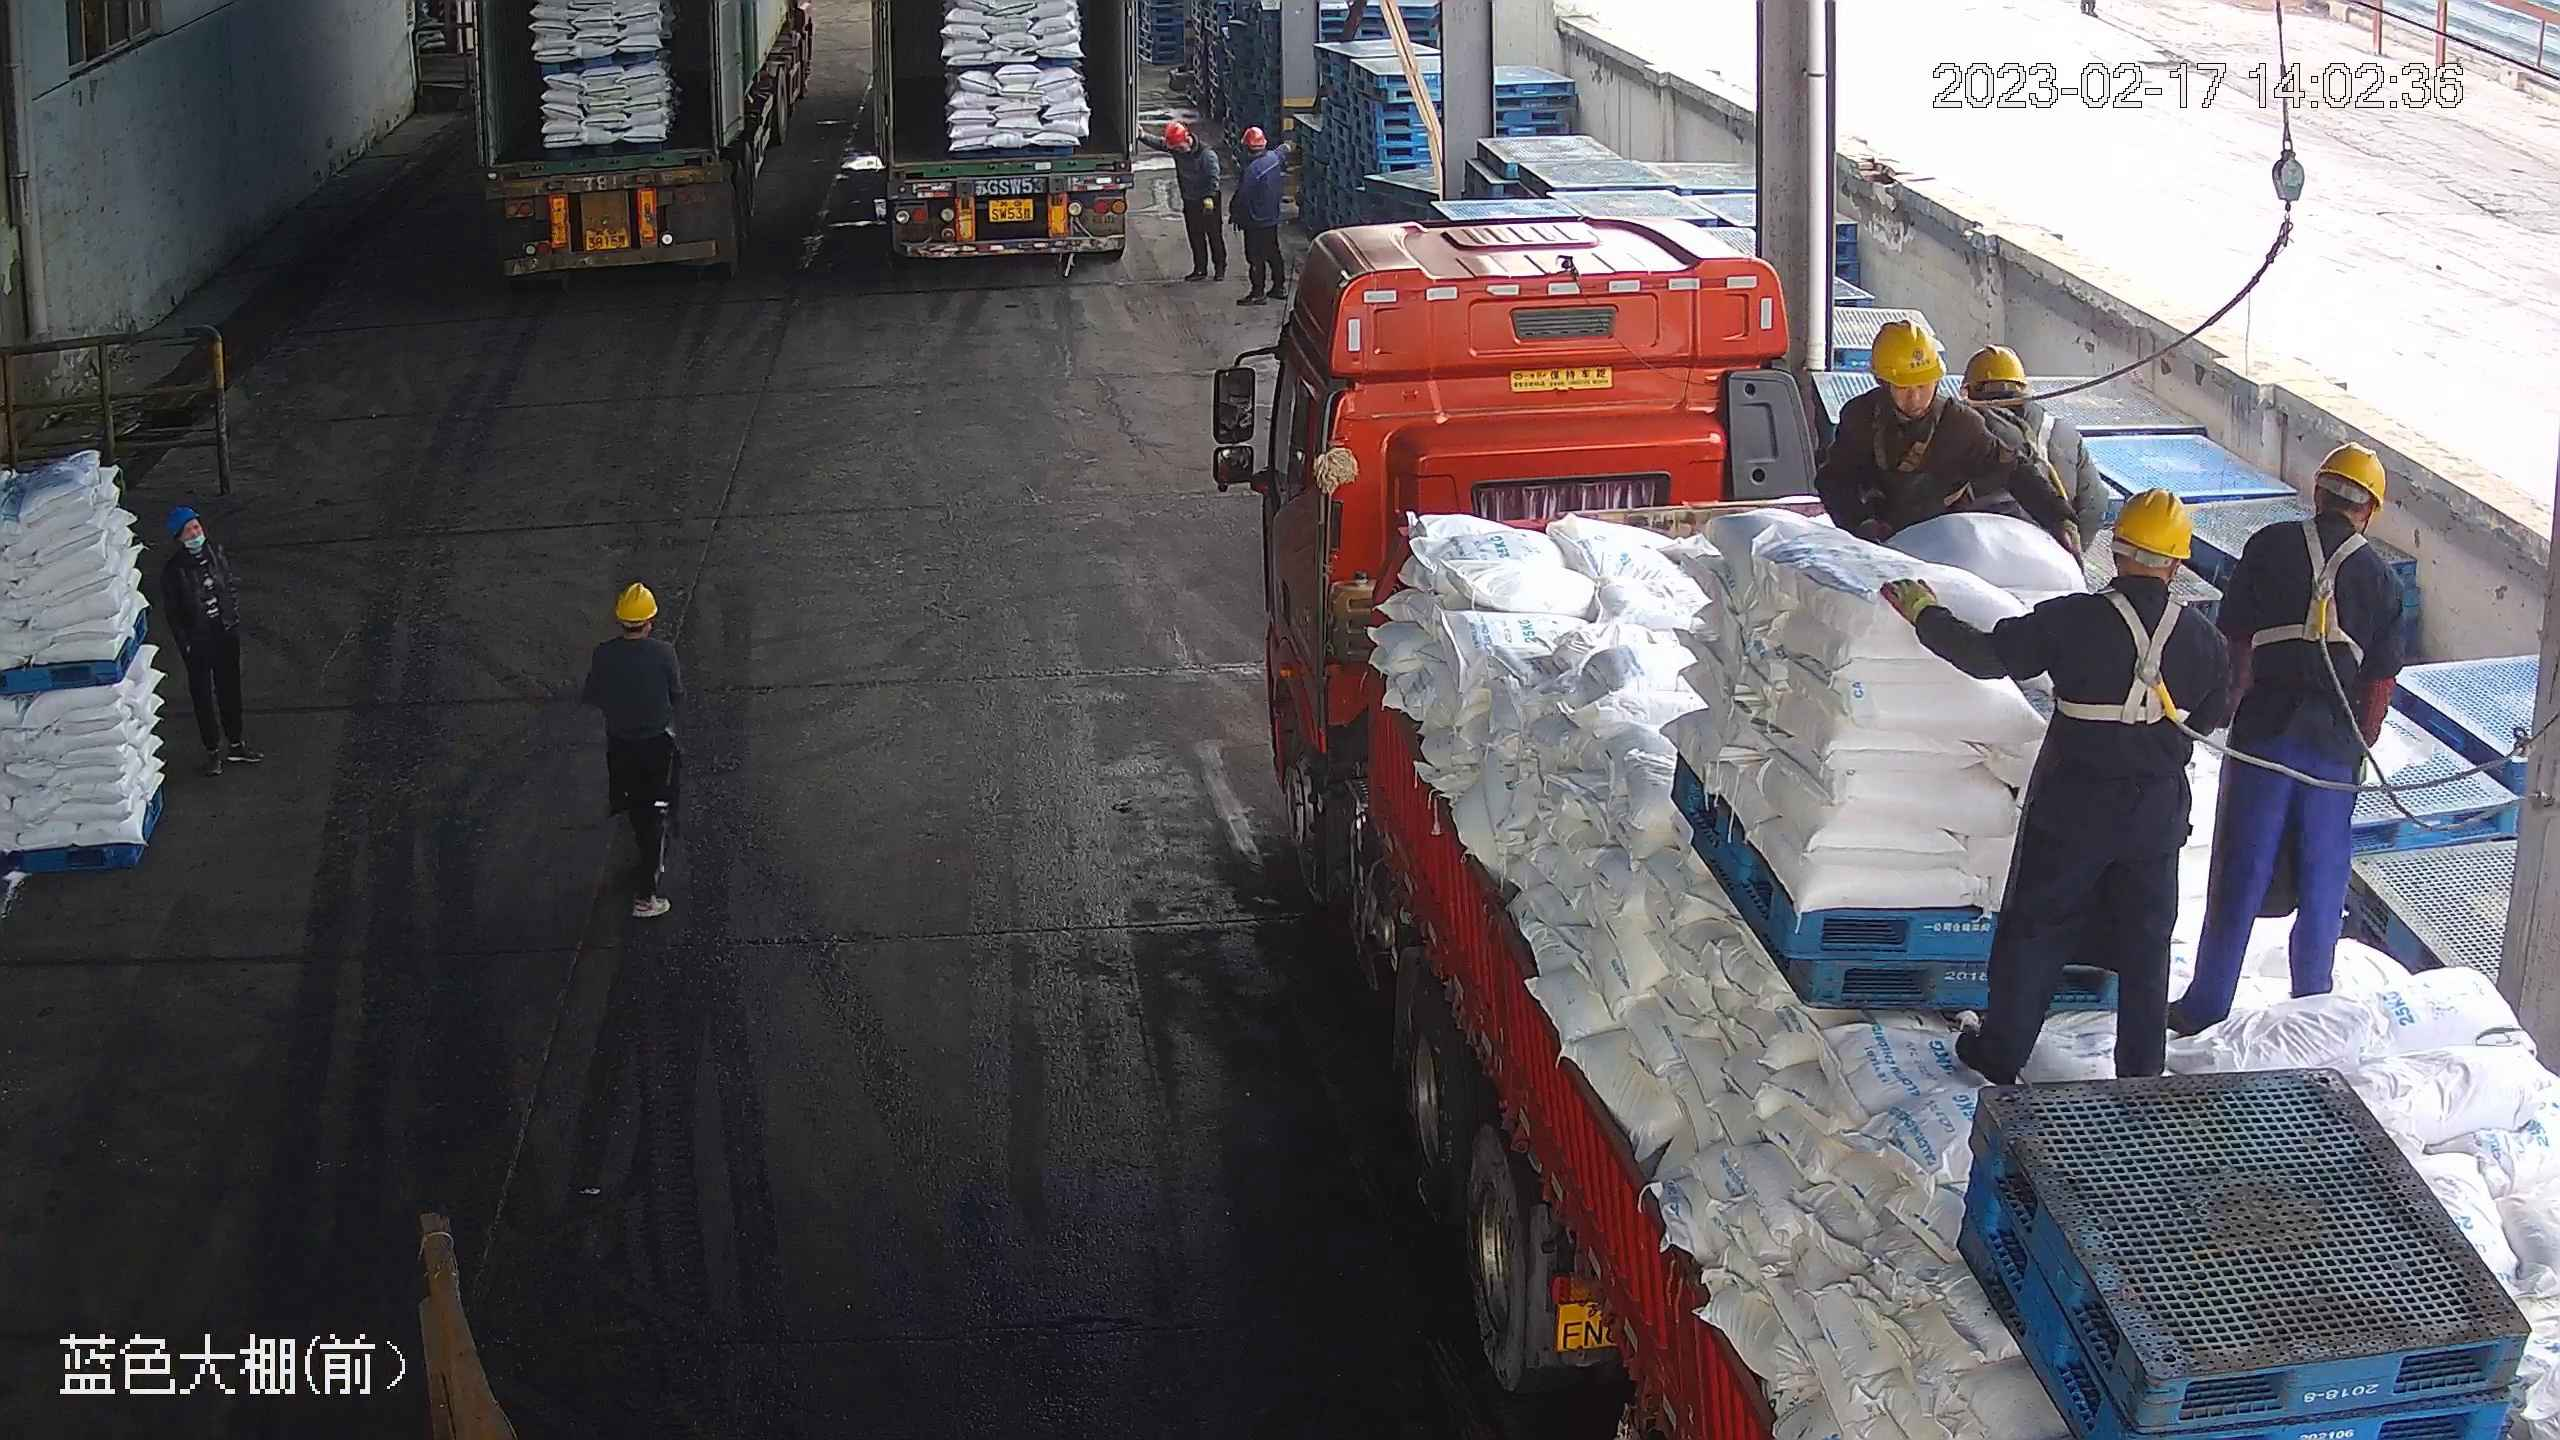belt: (2048, 585, 2201, 728), (2254, 525, 2373, 656), (1876, 390, 1955, 474)
head: (2030, 487, 2227, 669), (2238, 438, 2408, 599), (1836, 316, 1989, 468), (1954, 343, 2056, 462), (587, 582, 682, 683), (163, 510, 228, 593), (1233, 126, 1282, 183), (1163, 123, 1208, 172)
helmet: (2106, 485, 2195, 562), (2310, 440, 2387, 517), (1867, 317, 1946, 388), (1962, 343, 2030, 390), (613, 581, 658, 620), (1163, 121, 1193, 149), (170, 511, 202, 540), (1240, 125, 1266, 149)
people: (1881, 488, 2234, 1088), (2167, 444, 2412, 1023), (578, 580, 687, 921), (167, 509, 266, 771), (1233, 126, 1284, 308), (1161, 119, 1214, 284)
truck: (1254, 200, 2558, 1439), (477, 1, 822, 282), (861, 1, 1165, 295)
